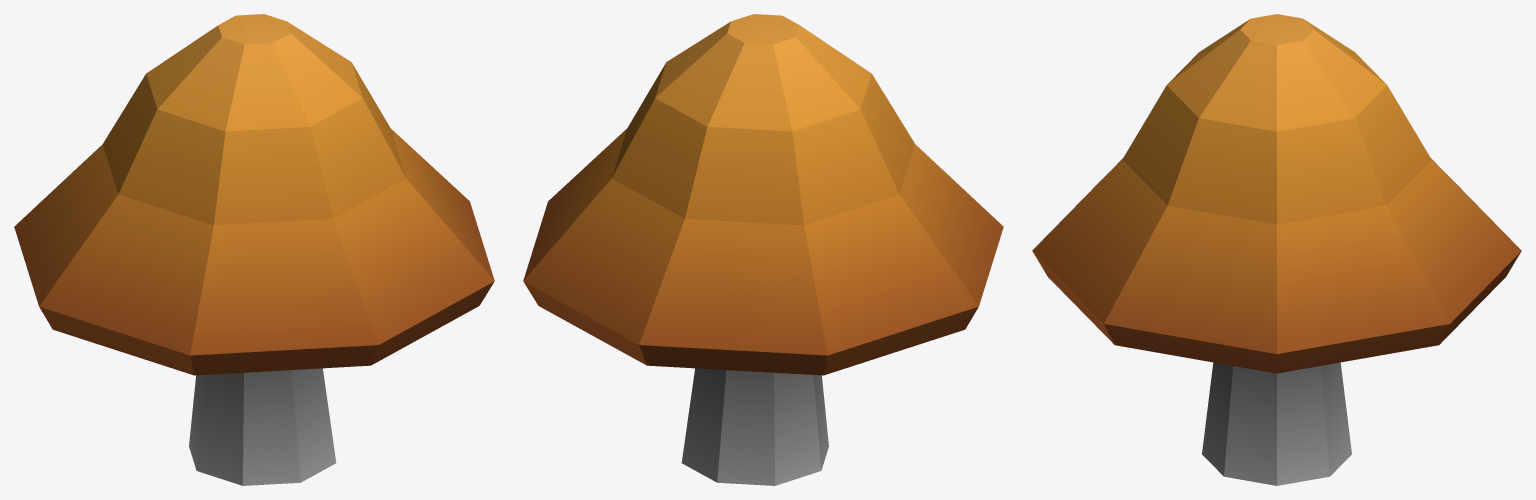
The model's file is MushroomExtraMediumOrange.FBX.
3 renders of one model, left to right at view 1: azimuth 30°, elevation 25°; view 2: azimuth 150°, elevation 25°; view 3: azimuth 270°, elevation 25°, orthographic.
Visible parts, largest first — view 1: Cylinder059; view 2: Cylinder059; view 3: Cylinder059.
Boxes of the visible parts, x1=… form: Cylinder059: x1=14, y1=14, x2=494, y2=485; Cylinder059: x1=523, y1=14, x2=1003, y2=485; Cylinder059: x1=1032, y1=14, x2=1521, y2=485.
Size of the model in its own units: 39.22 by 37.26 by 39.22.
